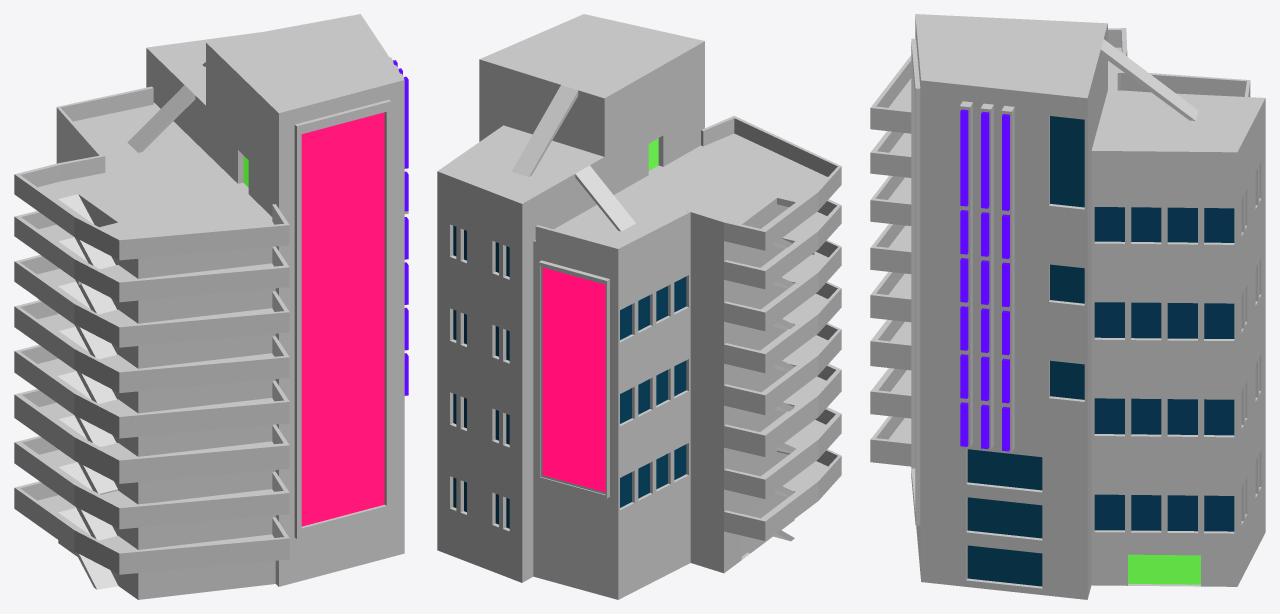
File: WHITENEWstairwallthingy.fbx
The picture shows the model from 3 angles, left to right: view 1: azimuth 30°, elevation 25°; view 2: azimuth 150°, elevation 25°; view 3: azimuth 270°, elevation 25°; orthographic projection. The views are drawn at different scales.
Visible parts, largest first — view 1: Cube.025; view 2: Cube.025; view 3: Cube.025.
Boxes of the visible parts, x1=… form: Cube.025: x1=14, y1=14, x2=408, y2=599; Cube.025: x1=437, y1=14, x2=841, y2=599; Cube.025: x1=870, y1=14, x2=1265, y2=599.
Bounding box in the file's own units: 654 × 905 × 645.
